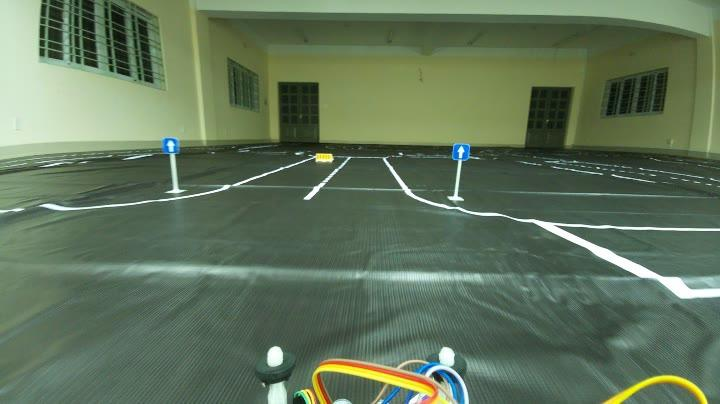onewayroad: (455, 140, 474, 168), (163, 136, 179, 158)
roadblock: (310, 150, 332, 169)
